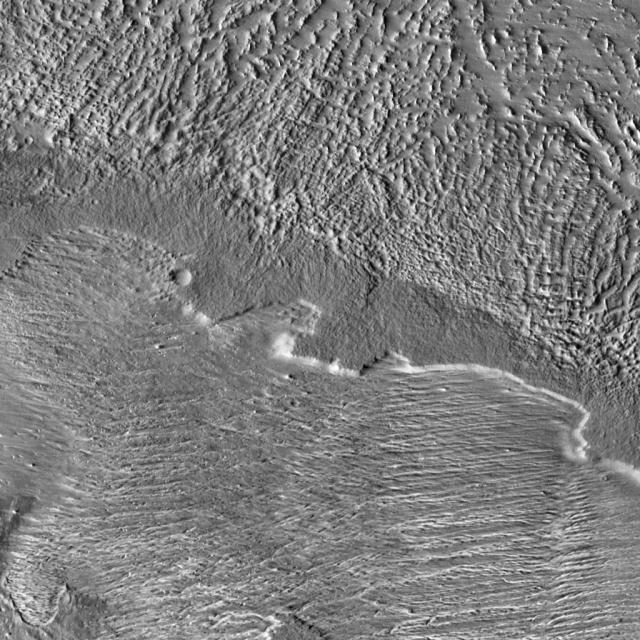crater: (171, 270, 190, 290), (27, 138, 36, 148), (292, 401, 300, 408)
